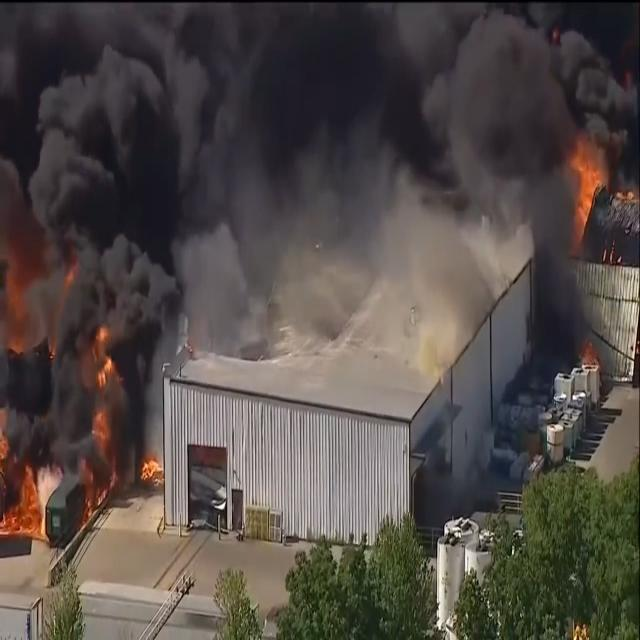Fire: (0, 221, 76, 360), (72, 406, 120, 522), (566, 132, 607, 259), (0, 469, 48, 545), (83, 326, 120, 392), (140, 458, 166, 484), (582, 346, 600, 372), (0, 408, 8, 462)
Smoke: (153, 0, 629, 236), (0, 0, 172, 476)
